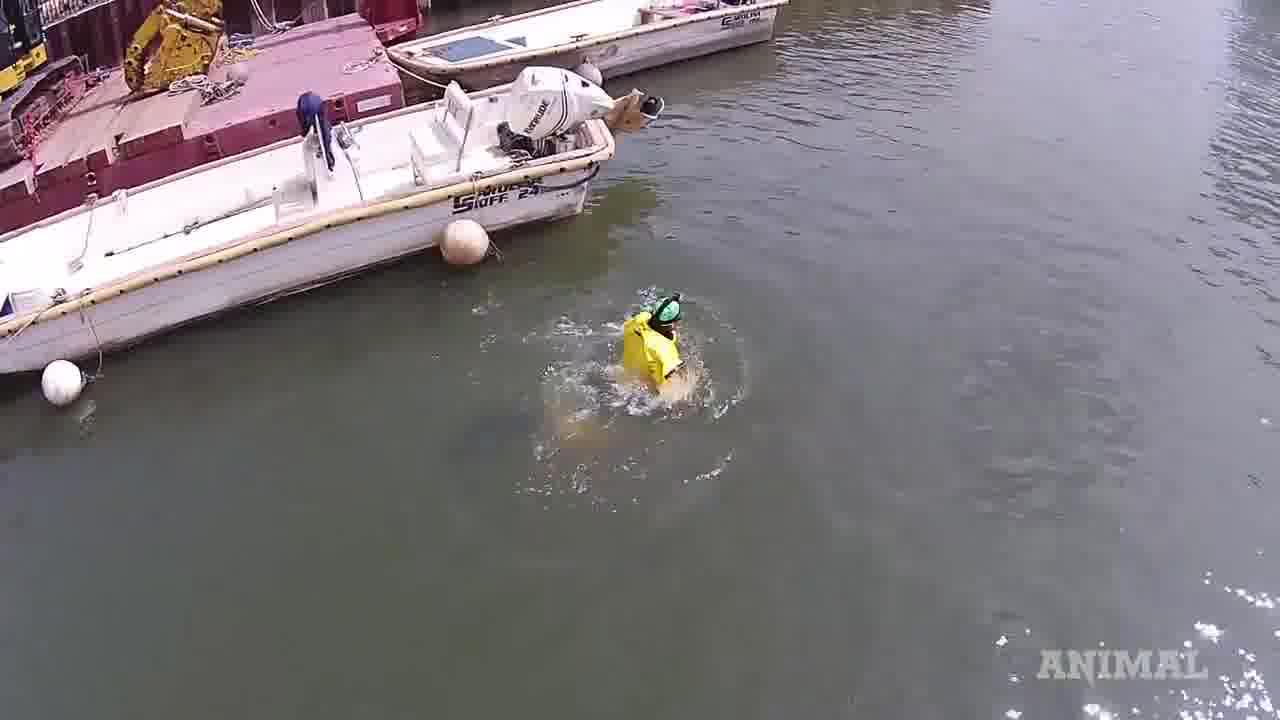human: (591, 293, 786, 394)
